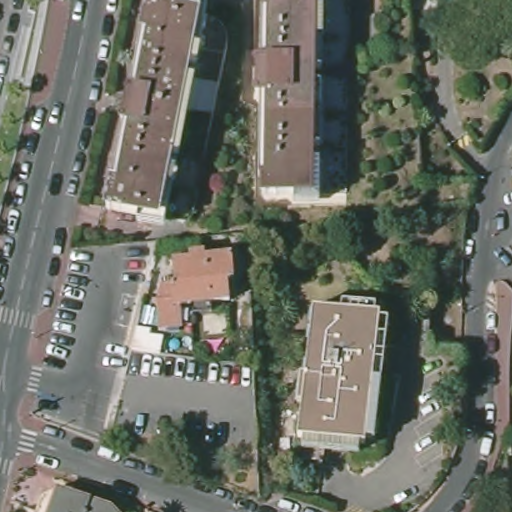pool: (167, 335, 181, 353)
